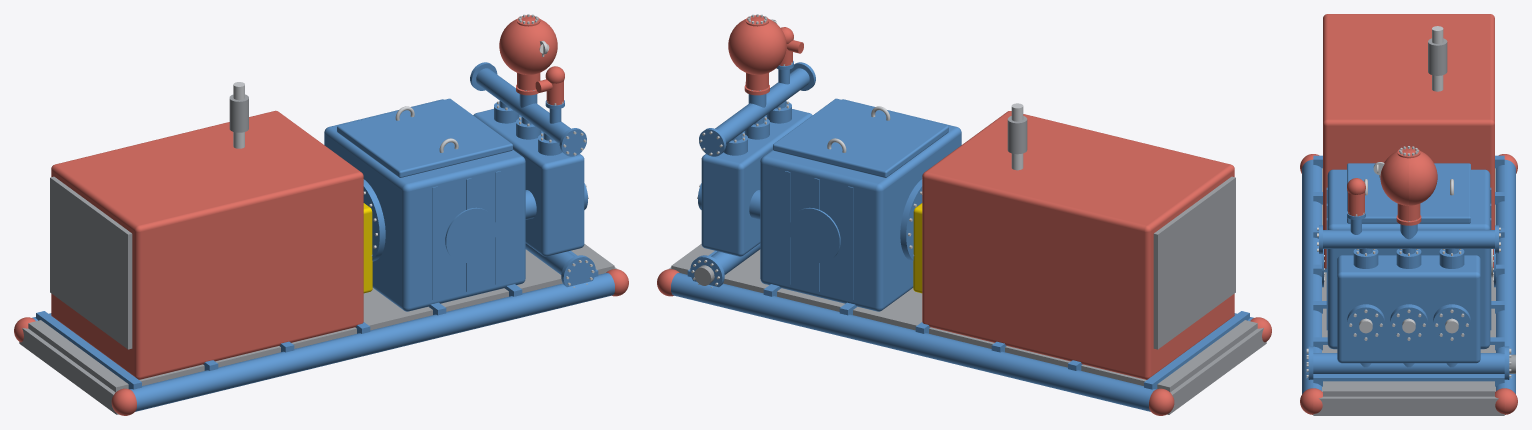
Rendered from sk575_bomba.glb.
3 renders of one model, left to right at view 1: azimuth 30°, elevation 25°; view 2: azimuth 150°, elevation 25°; view 3: azimuth 270°, elevation 25°, orthographic. The views are drawn at different scales.
Parts seen in each view (by area): view 1: sk575_bomba_rojo, sk575_bomba_azul_bomba, sk575_bomba_acero_oscuro, sk575_bomba_acero, sk575_bomba_amarillo; view 2: sk575_bomba_rojo, sk575_bomba_azul_bomba, sk575_bomba_acero_oscuro, sk575_bomba_acero, sk575_bomba_amarillo; view 3: sk575_bomba_azul_bomba, sk575_bomba_rojo, sk575_bomba_acero_oscuro, sk575_bomba_acero.
Boxes of the visible parts, x1=… form: sk575_bomba_rojo: x1=14, y1=15, x2=628, y2=415; sk575_bomba_azul_bomba: x1=32, y1=62, x2=614, y2=411; sk575_bomba_acero_oscuro: x1=19, y1=94, x2=617, y2=414; sk575_bomba_acero: x1=233, y1=14, x2=594, y2=287; sk575_bomba_amarillo: x1=363, y1=203, x2=372, y2=293; sk575_bomba_rojo: x1=657, y1=15, x2=1271, y2=415; sk575_bomba_azul_bomba: x1=671, y1=61, x2=1253, y2=411; sk575_bomba_acero_oscuro: x1=668, y1=116, x2=1266, y2=414; sk575_bomba_acero: x1=691, y1=14, x2=1023, y2=287; sk575_bomba_amarillo: x1=913, y1=203, x2=922, y2=293; sk575_bomba_azul_bomba: x1=1302, y1=155, x2=1515, y2=393; sk575_bomba_rojo: x1=1300, y1=14, x2=1517, y2=414; sk575_bomba_acero_oscuro: x1=1313, y1=38, x2=1515, y2=415; sk575_bomba_acero: x1=1306, y1=26, x2=1511, y2=377.
Bounding box in the file's own units: 6.08 × 2.83 × 2.28.
